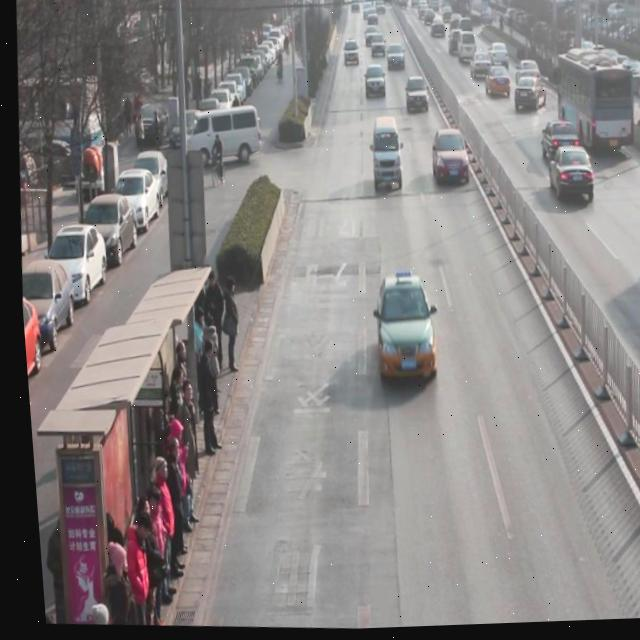car: (367, 275, 438, 386), (544, 147, 594, 207), (427, 130, 471, 190), (538, 122, 581, 174), (511, 78, 547, 119), (402, 79, 430, 117), (512, 61, 541, 95), (483, 67, 512, 101), (362, 65, 387, 103), (484, 43, 510, 75), (467, 54, 493, 85), (384, 44, 407, 76), (342, 40, 361, 69)
truck: (175, 103, 265, 174), (367, 118, 404, 197), (455, 33, 478, 68)
van: (548, 51, 636, 159)
